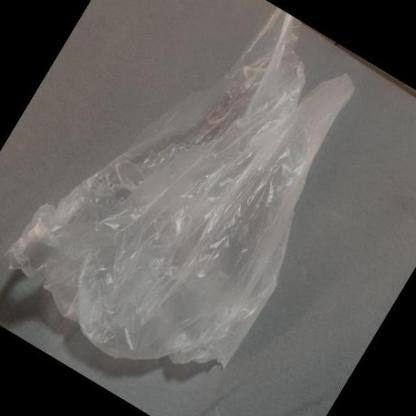Plastic Bag: (4, 0, 358, 372)
